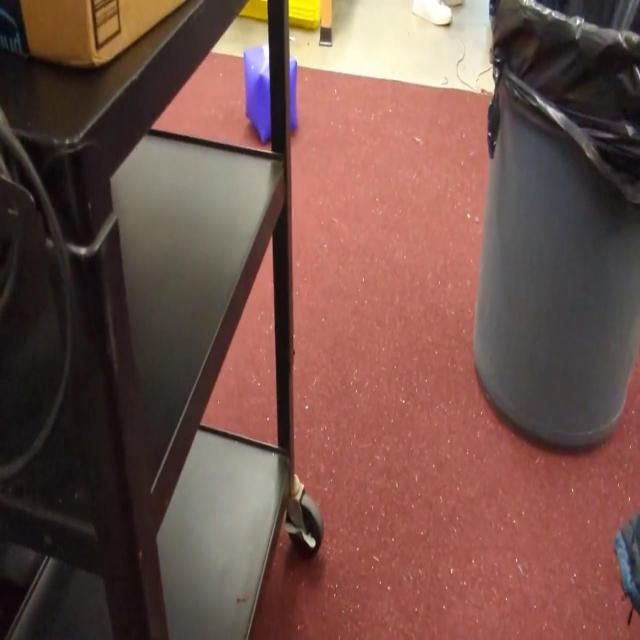frc_cube: (243, 44, 297, 142)
